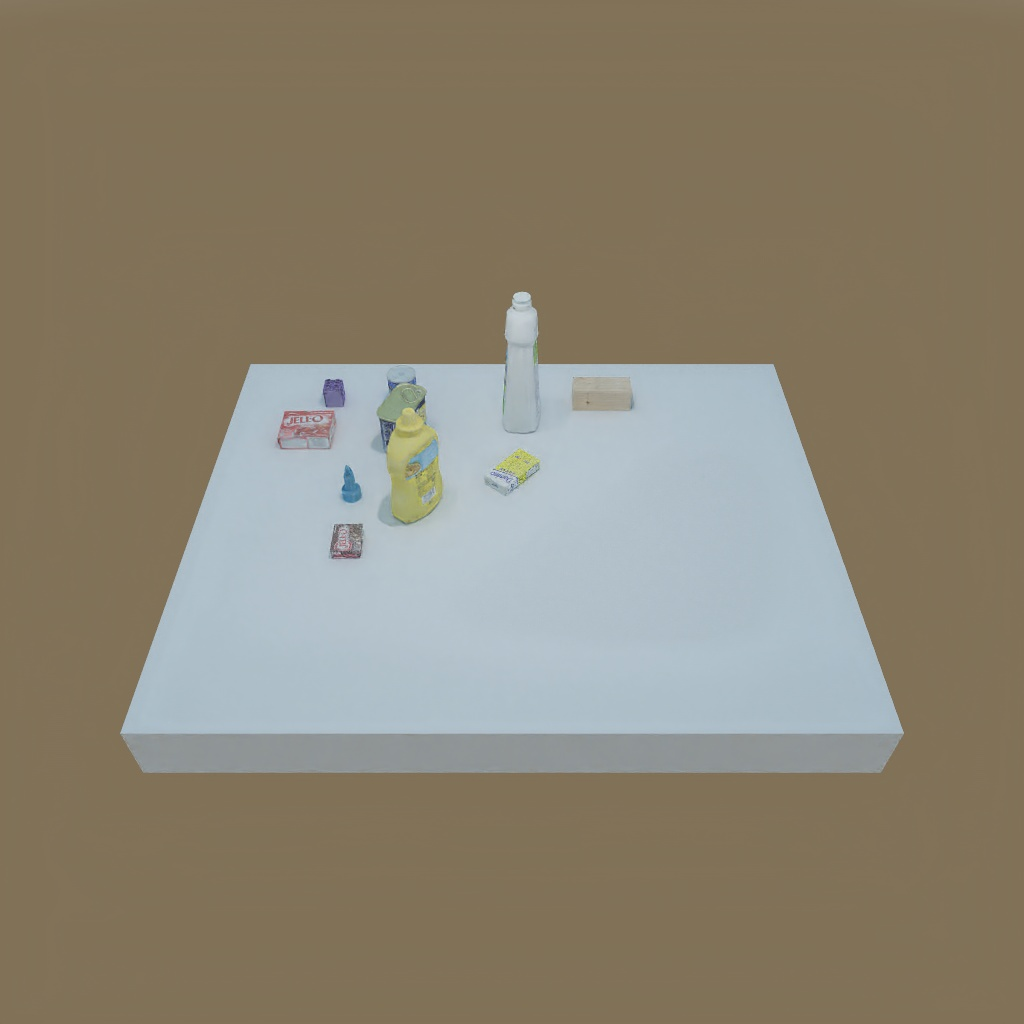gelatin_box: (279, 408, 340, 451)
master_chef_can: (382, 366, 421, 391)
mustard_bottle: (384, 412, 446, 518)
potted_meat_can: (378, 387, 435, 449)
pudding_box: (326, 518, 367, 559)
wood_block: (570, 375, 639, 411)
